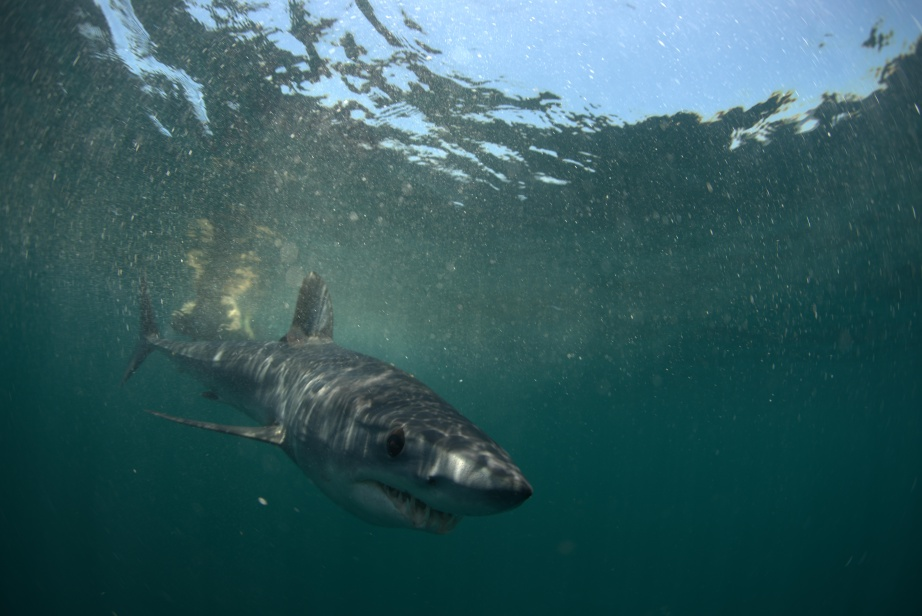Mako: (96, 253, 545, 545)
